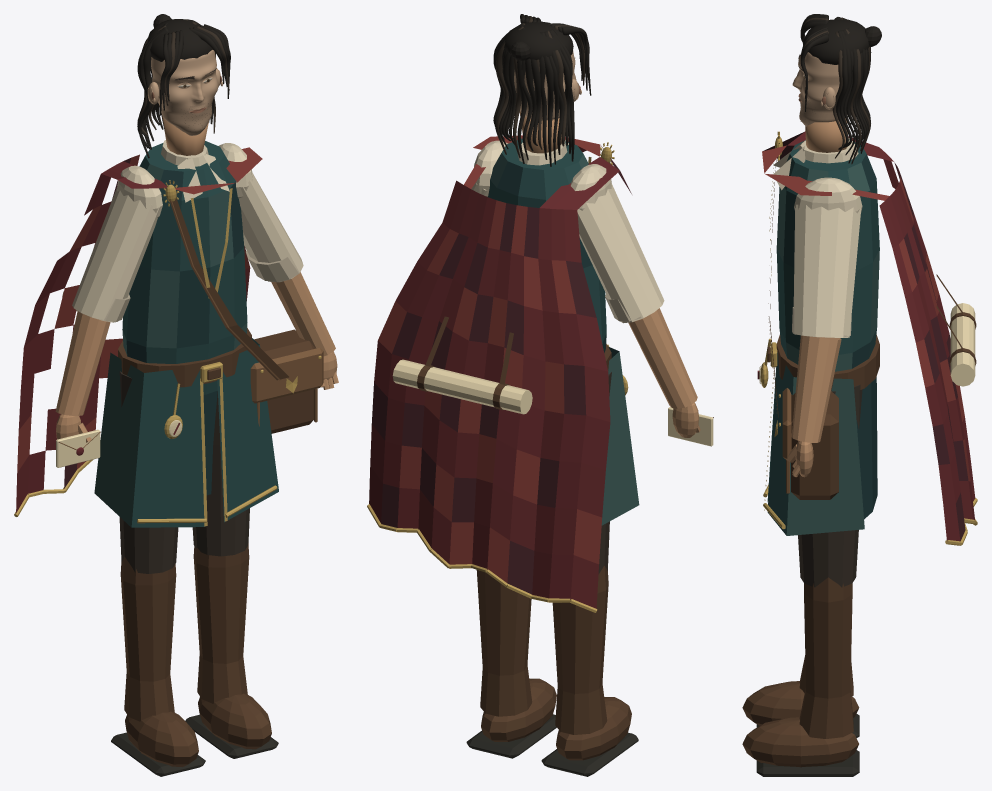
Rendered from courier.glb.
3 renders of one model, left to right at view 1: azimuth 30°, elevation 25°; view 2: azimuth 150°, elevation 25°; view 3: azimuth 270°, elevation 25°, orthographic. The views are drawn at different scales.
Parts seen in each view (by area): view 1: Waistcoat, Split_coat_R, Cloak_folds, Boot_shaft_R, Boot_shaft_L, Split_coat_L, Linen_sleeve_R, Face, Forearm_R, Linen_sleeve_L, Trouser_thigh_L, Boot_toe_L (+17 smaller); view 2: Cloak_folds, Boot_shaft_R, Boot_shaft_L, Linen_sleeve_R, Waistcoat, Split_coat_R, Map_roll, Forearm_R, Boot_toe_L, Boot_toe_R, Hair_crown, Boot_sole_R (+7 smaller); view 3: Cloak_folds, Waistcoat, Linen_sleeve_L, Boot_shaft_L, Split_coat_L, Boot_toe_L, Forearm_L, Trouser_thigh_L, Messenger_satchel, Back_coat, Face, Boot_toe_R (+12 smaller).
Part boxes in pixels (x1=…): Waistcoat: x1=122, y1=141, x2=247, y2=394; Split_coat_R: x1=94, y1=352, x2=205, y2=527; Cloak_folds: x1=16, y1=147, x2=262, y2=513; Boot_shaft_R: x1=120, y1=557, x2=176, y2=721; Boot_shaft_L: x1=193, y1=543, x2=249, y2=703; Split_coat_L: x1=217, y1=338, x2=278, y2=522; Linen_sleeve_R: x1=72, y1=186, x2=160, y2=322; Face: x1=151, y1=50, x2=218, y2=135; Forearm_R: x1=55, y1=311, x2=110, y2=415; Linen_sleeve_L: x1=239, y1=172, x2=303, y2=282; Trouser_thigh_L: x1=192, y1=391, x2=249, y2=556; Boot_toe_L: x1=198, y1=693, x2=271, y2=749; Cloak_folds: x1=369, y1=135, x2=631, y2=608; Boot_shaft_R: x1=552, y1=565, x2=608, y2=734; Boot_shaft_L: x1=476, y1=570, x2=532, y2=716; Linen_sleeve_R: x1=577, y1=183, x2=664, y2=323; Waistcoat: x1=488, y1=138, x2=606, y2=352; Split_coat_R: x1=601, y1=346, x2=639, y2=525; Map_roll: x1=392, y1=359, x2=532, y2=414; Forearm_R: x1=628, y1=308, x2=697, y2=408; Boot_toe_L: x1=481, y1=678, x2=556, y2=741; Boot_toe_R: x1=556, y1=697, x2=631, y2=760; Hair_crown: x1=504, y1=21, x2=573, y2=59; Boot_sole_R: x1=541, y1=732, x2=638, y2=776; Cloak_folds: x1=762, y1=131, x2=975, y2=541; Waistcoat: x1=776, y1=139, x2=879, y2=371; Linen_sleeve_L: x1=793, y1=204, x2=861, y2=337; Boot_shaft_L: x1=799, y1=577, x2=853, y2=738; Split_coat_L: x1=767, y1=352, x2=864, y2=535; Boot_toe_L: x1=742, y1=717, x2=858, y2=767; Forearm_L: x1=791, y1=335, x2=841, y2=442; Trouser_thigh_L: x1=798, y1=384, x2=862, y2=587; Messenger_satchel: x1=791, y1=391, x2=838, y2=499; Back_coat: x1=856, y1=377, x2=877, y2=519; Face: x1=792, y1=52, x2=847, y2=126; Boot_toe_R: x1=742, y1=681, x2=859, y2=725.
Bounding box in the file's own units: 0.7395 × 1.75 × 0.5149.
